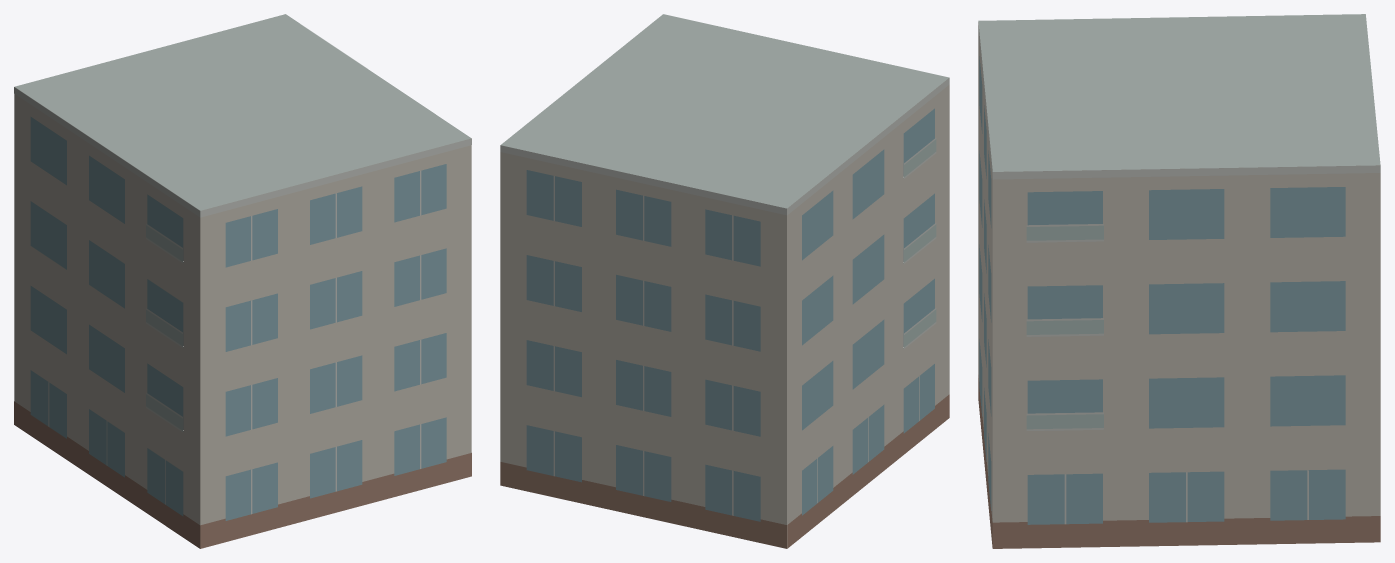
The model's file is residential-a0cadb75-d143-4229-b5c0-466597e52898.glb.
3 views of the same model, side by side, from view 1: azimuth 30°, elevation 25°; view 2: azimuth 150°, elevation 25°; view 3: azimuth 270°, elevation 25° (orthographic). The views are drawn at different scales.
Parts seen in each view (by area): view 1: residential-a0cadb75-d143-4229-b5c0-466597e52898.tmp; view 2: residential-a0cadb75-d143-4229-b5c0-466597e52898.tmp; view 3: residential-a0cadb75-d143-4229-b5c0-466597e52898.tmp.
Boxes of the visible parts, x1=… form: residential-a0cadb75-d143-4229-b5c0-466597e52898.tmp: x1=14, y1=14, x2=471, y2=548; residential-a0cadb75-d143-4229-b5c0-466597e52898.tmp: x1=500, y1=14, x2=949, y2=548; residential-a0cadb75-d143-4229-b5c0-466597e52898.tmp: x1=978, y1=14, x2=1380, y2=548.
Size of the model in its own units: 10.98 by 12.2 by 11.81.
